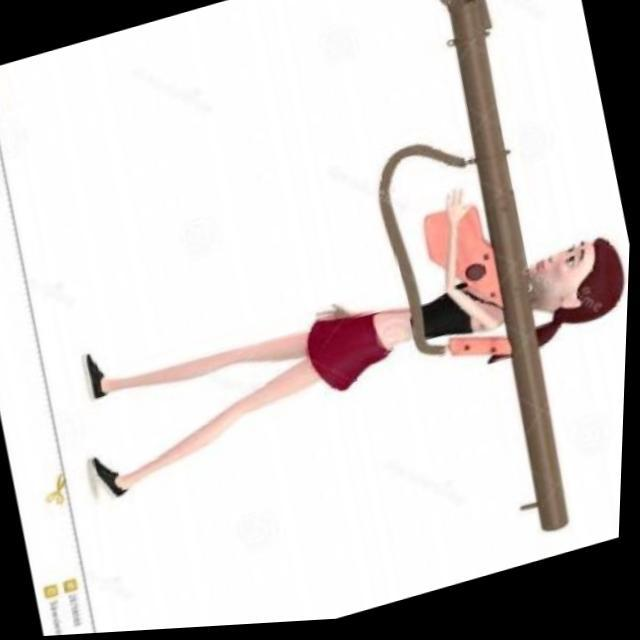weapon: (414, 0, 596, 555)
